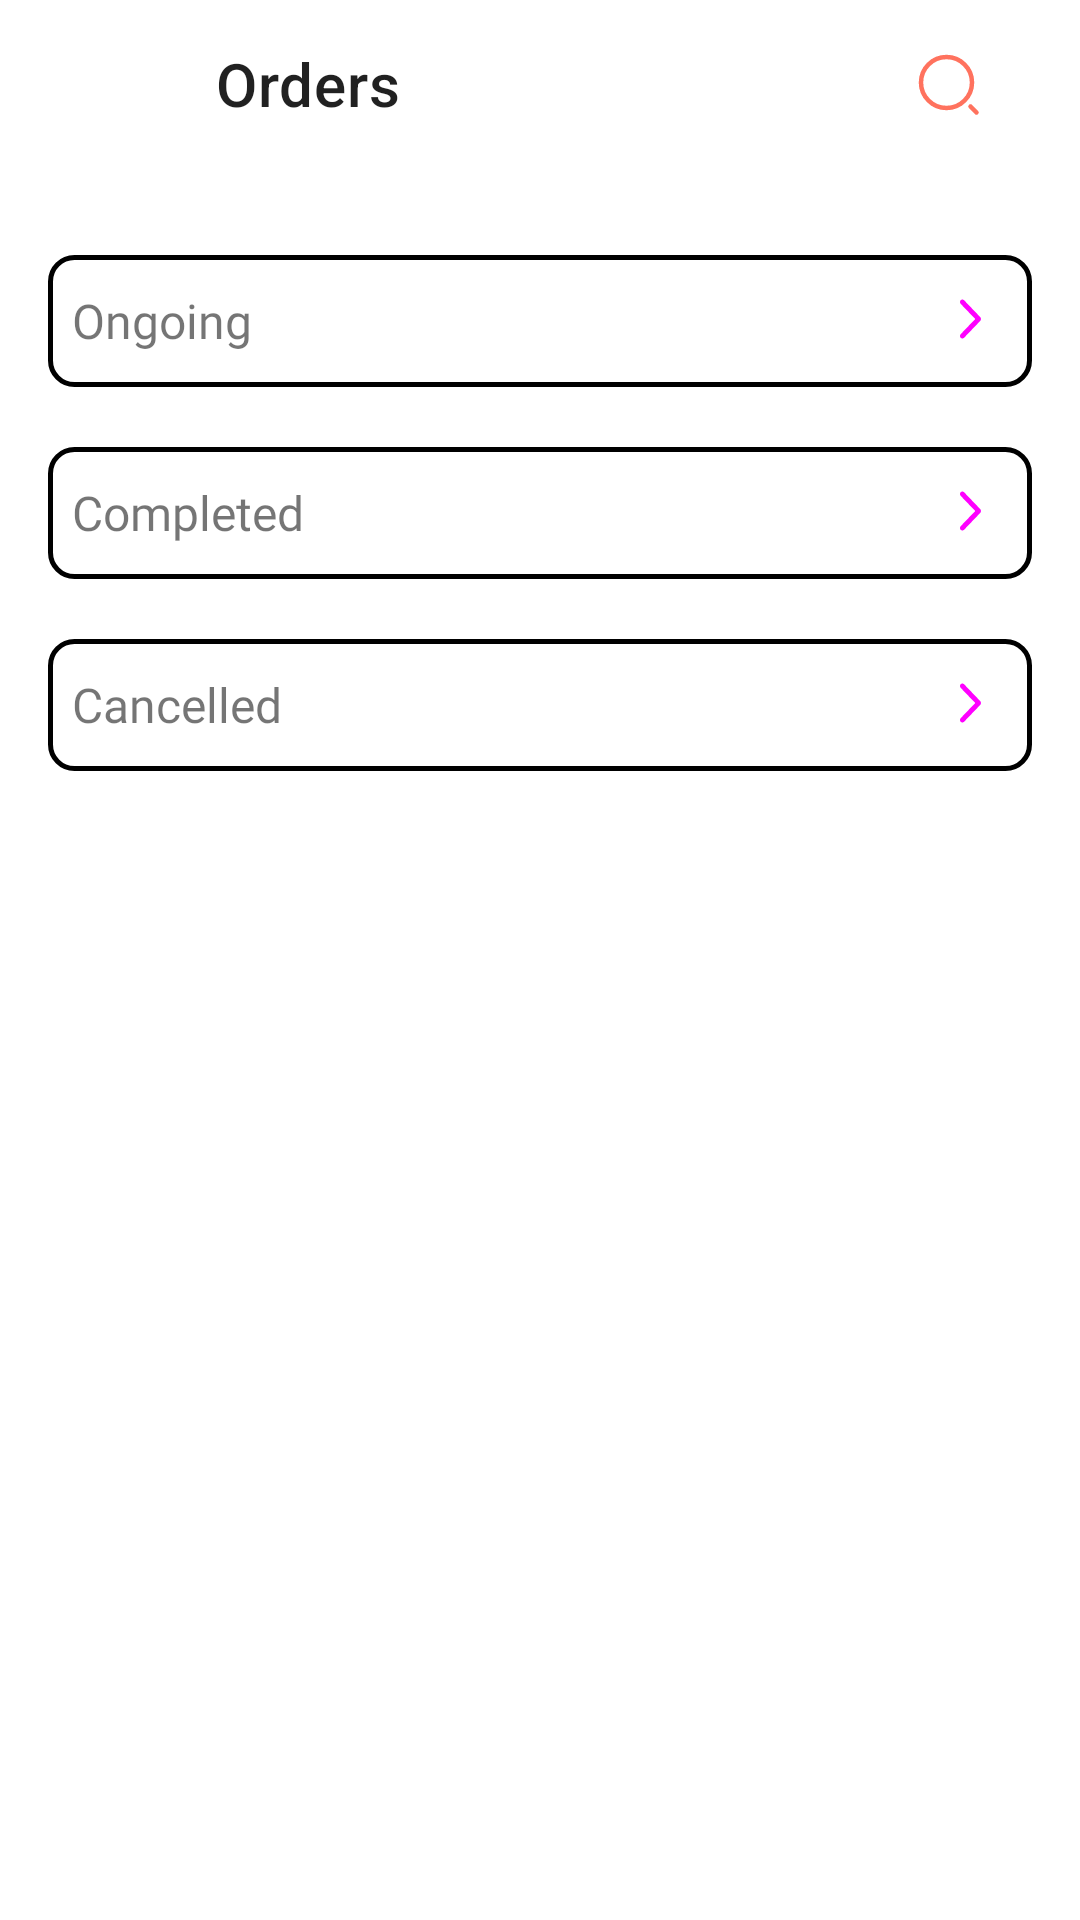

Named icons in this screenshot (1080px×1920px) and their bounding boxes, (x1, y1, x2, y2):
right: (960, 299, 981, 339), (960, 491, 981, 531), (960, 683, 981, 723)
search: (918, 54, 979, 115)
